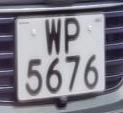5: (24, 56, 45, 96)
6: (43, 56, 65, 94), (82, 52, 100, 94)
7: (64, 54, 84, 98)
P: (62, 13, 83, 61)
W: (43, 14, 64, 62)
